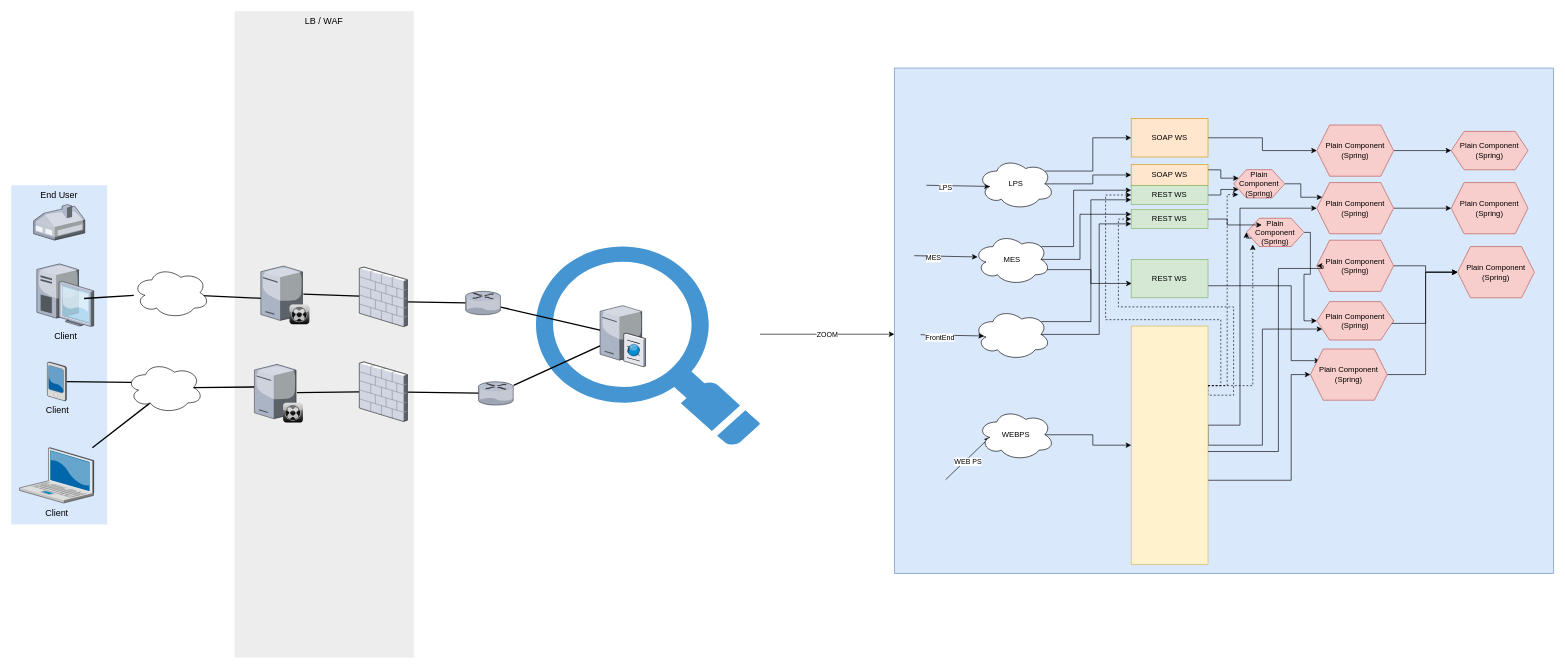
The diagram is 1565 pixels wide and 668 high, and some of its shapes have lost their labels. The centre of each missing label's shape, as x and y in pixels:
"FrontEnd JS" belongs at (x=1012, y=334).
"https:// LPS" belongs at (x=171, y=292).
"https:// web ps" belongs at (x=164, y=387).
"Server-side WebApp (Tapestry)" belongs at (x=1169, y=444).
"WebApp + EJB (JEE Server)" belongs at (x=622, y=335).
